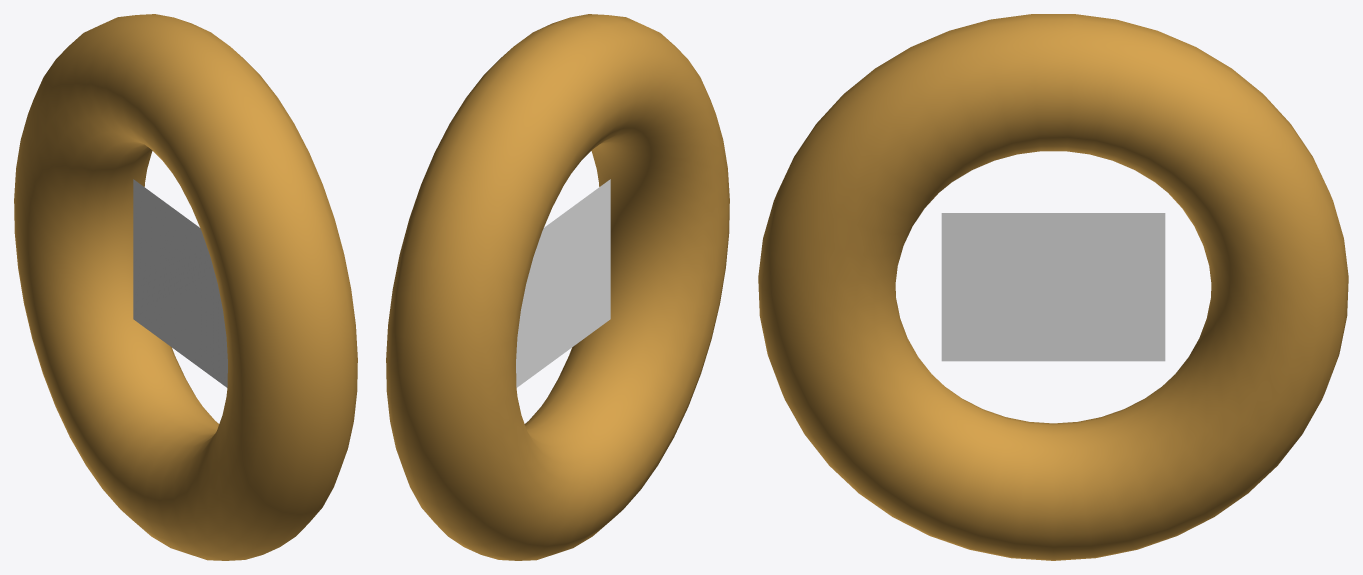
File: GoalRing.fbx
3 renders of one model, left to right at view 1: azimuth 30°, elevation 25°; view 2: azimuth 150°, elevation 25°; view 3: azimuth 270°, elevation 25°, orthographic. The views are drawn at different scales.
Visible parts, largest first — view 1: Torus.001, Plane; view 2: Torus.001, Plane; view 3: Torus.001, Plane.
Boxes of the visible parts, box(x1,y1,x2,y2) form: Torus.001: box(14, 14, 357, 560); Plane: box(133, 179, 227, 387); Torus.001: box(386, 14, 729, 560); Plane: box(516, 179, 610, 387); Torus.001: box(758, 14, 1348, 560); Plane: box(941, 213, 1165, 361).
Bounding box in the file's own units: 1.68 × 7.2 × 7.21.
